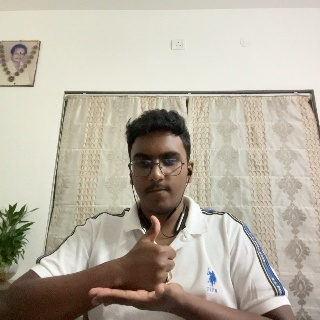Face: (125, 108, 193, 211)
Help: (109, 216, 184, 310)
